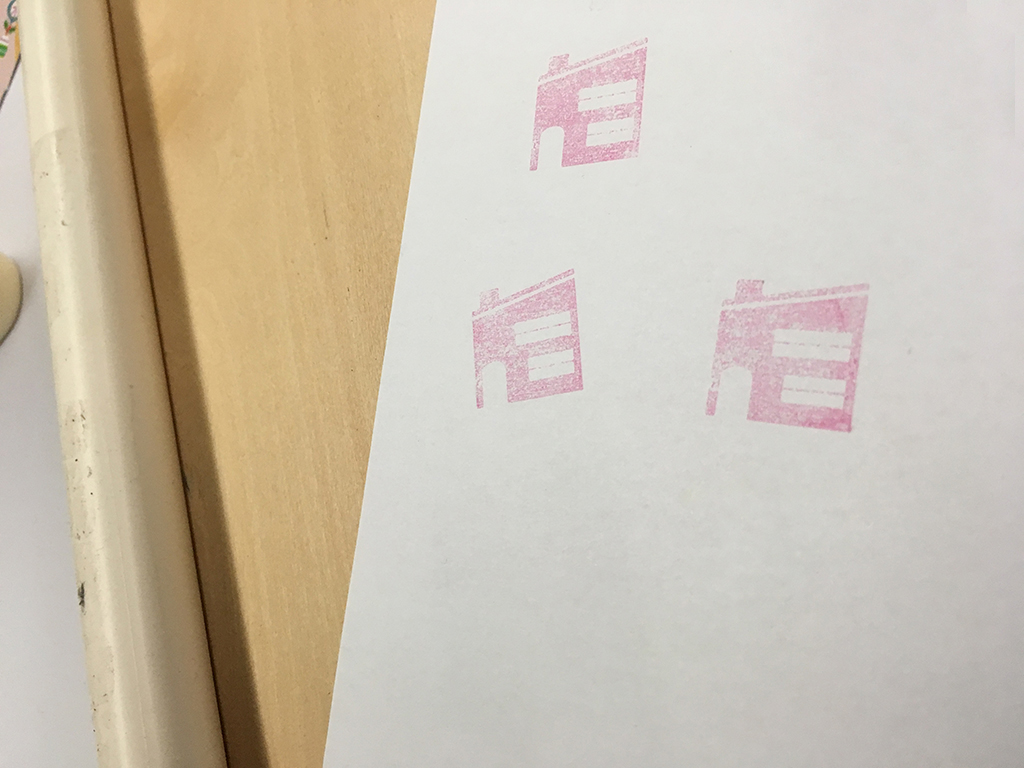house: (690, 266, 886, 447), (452, 264, 603, 418), (517, 24, 657, 181)
